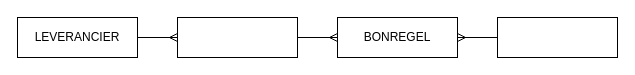
Some shapes in this 635 by 75 pixel diagram are drawn without their labels. The box of each missing label's shape, as (x1, y1, x2, y2) in pixels:
ARTIKEL: (496, 16, 618, 58)
BON: (176, 16, 298, 58)
